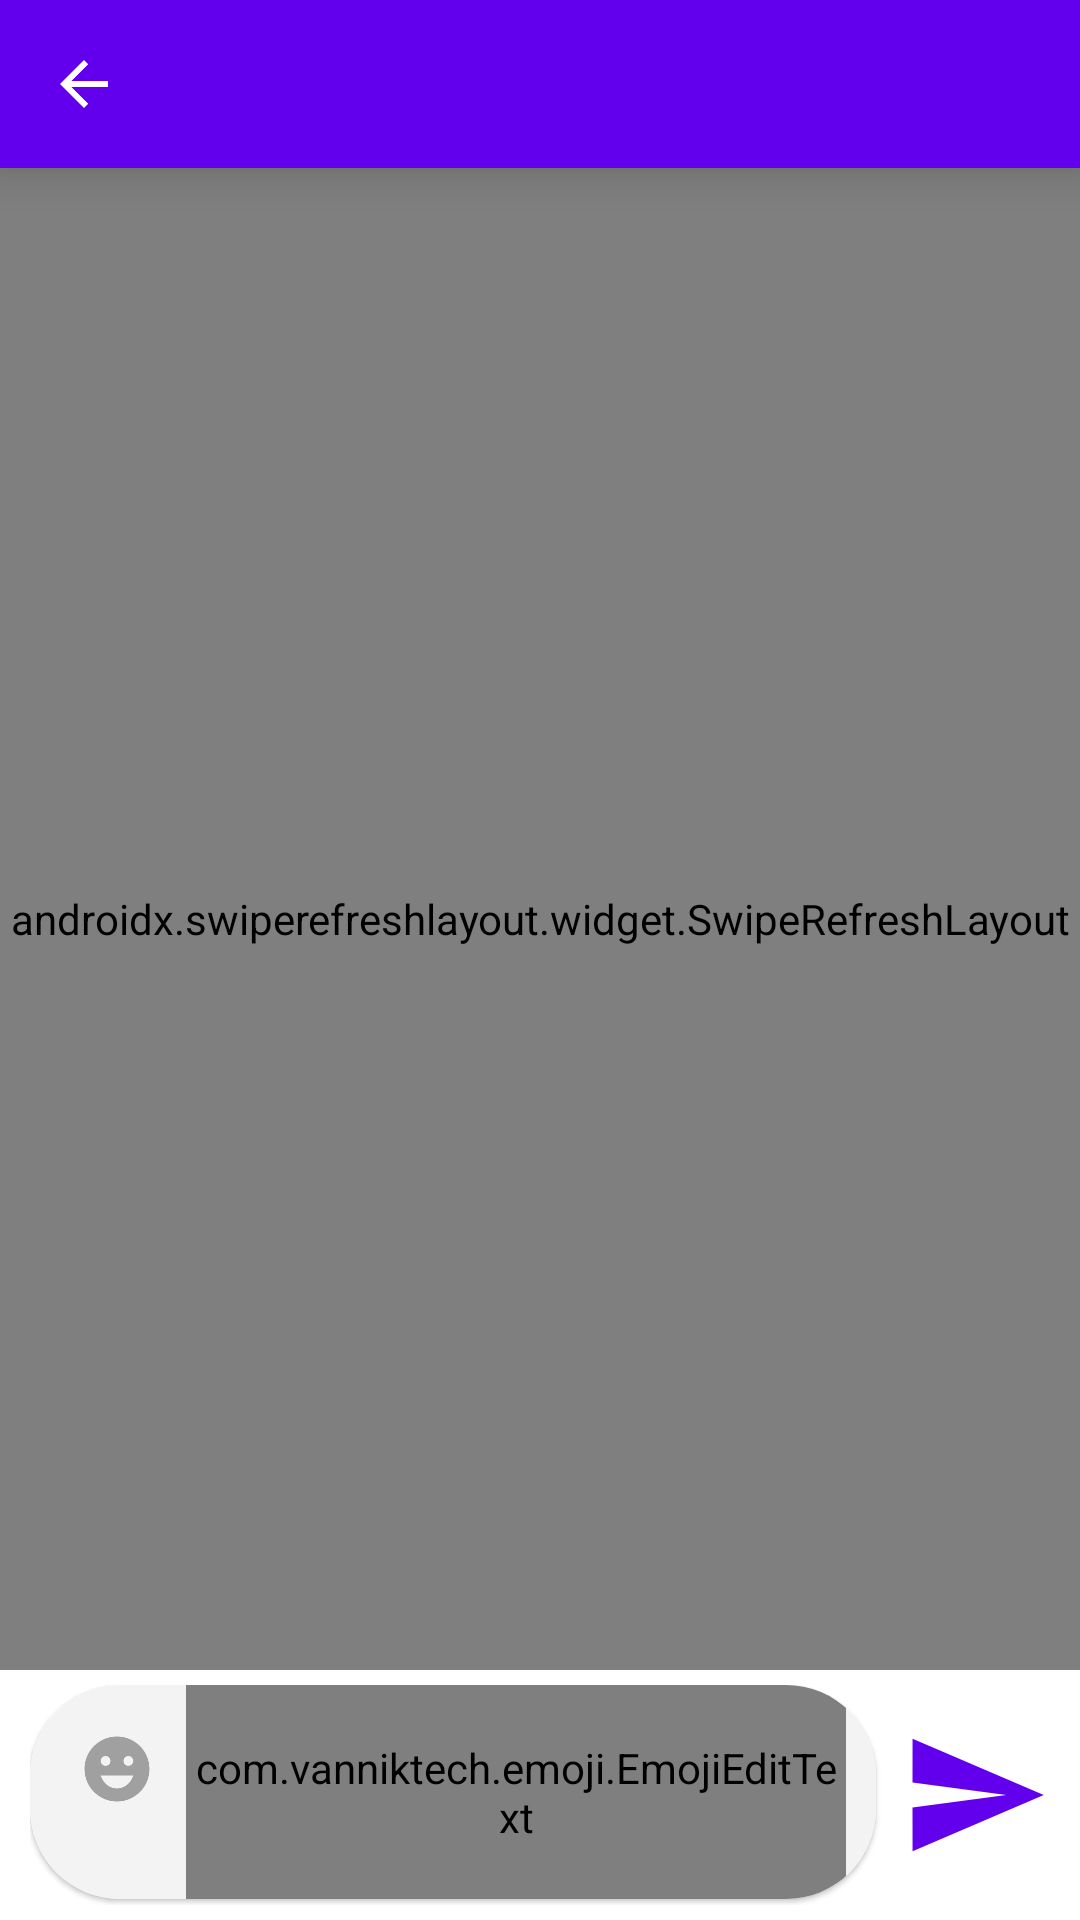

Where to tap for icons on this 1080w x 1920h app screen, as (x=x, y=y):
chat smile: (x=117, y=1769)
